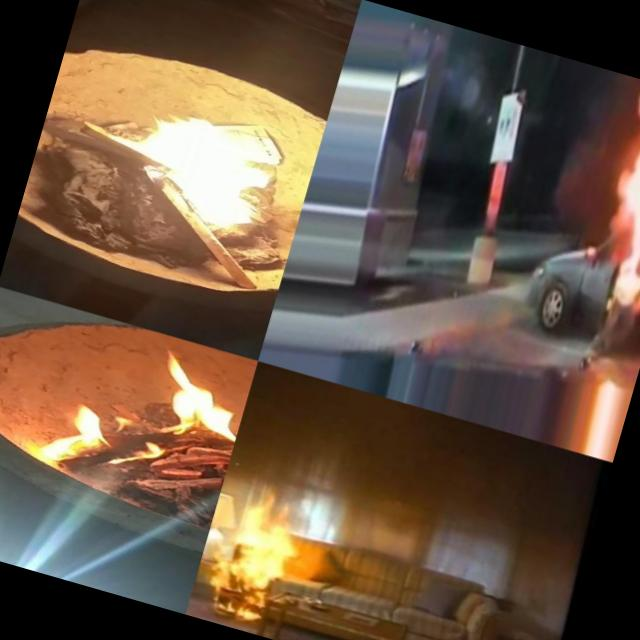fire: (78, 83, 320, 264), (36, 325, 252, 508), (194, 482, 304, 628), (600, 83, 640, 283)
